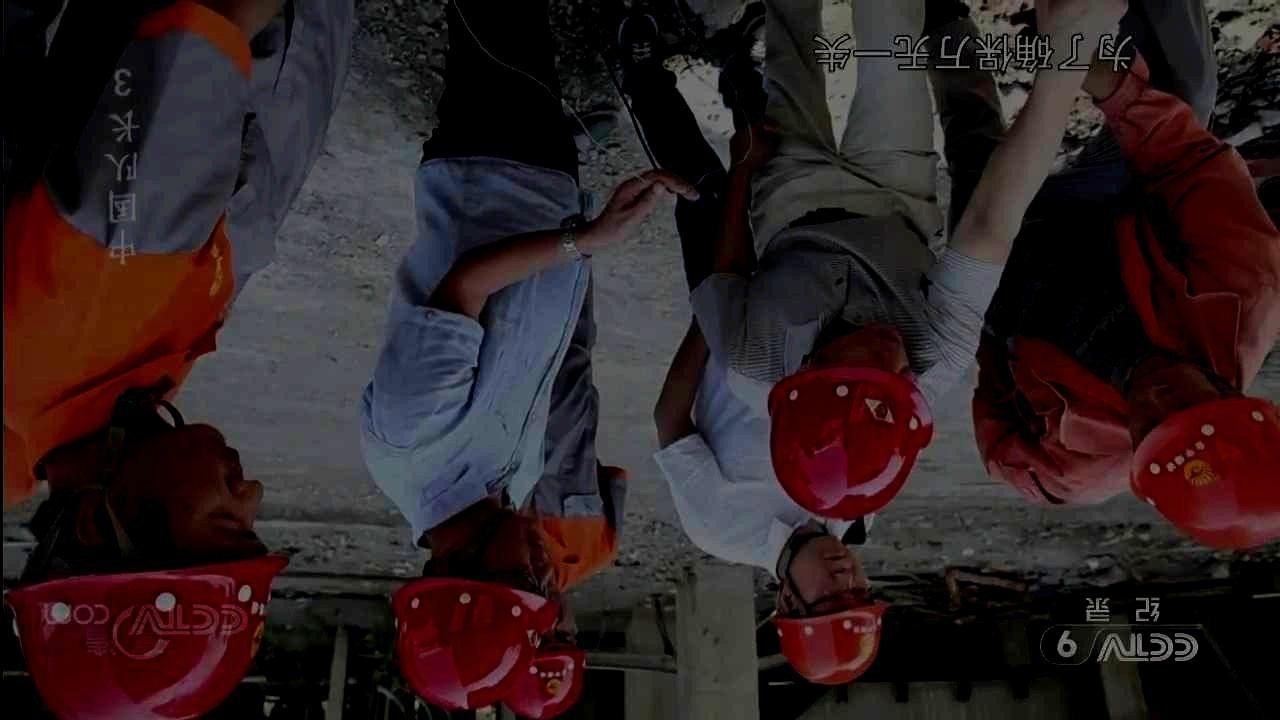helmet: (4, 422, 291, 720), (767, 320, 935, 522), (390, 515, 562, 711), (1122, 361, 1280, 551), (770, 535, 890, 684), (503, 602, 588, 717)
